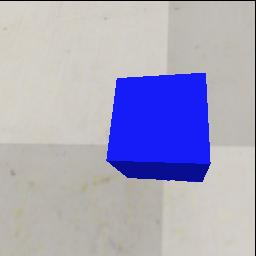box: (106, 73, 211, 182)
